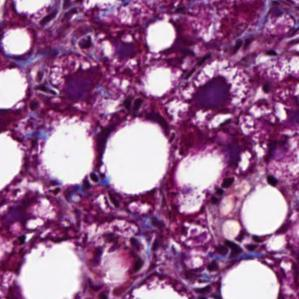inflammation: (208, 226, 259, 266), (26, 58, 66, 98)
